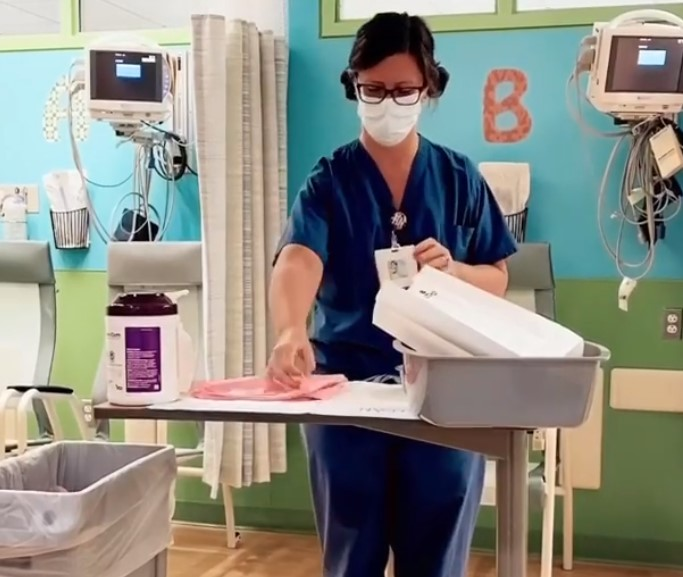face_with_mask: (339, 14, 436, 147)
